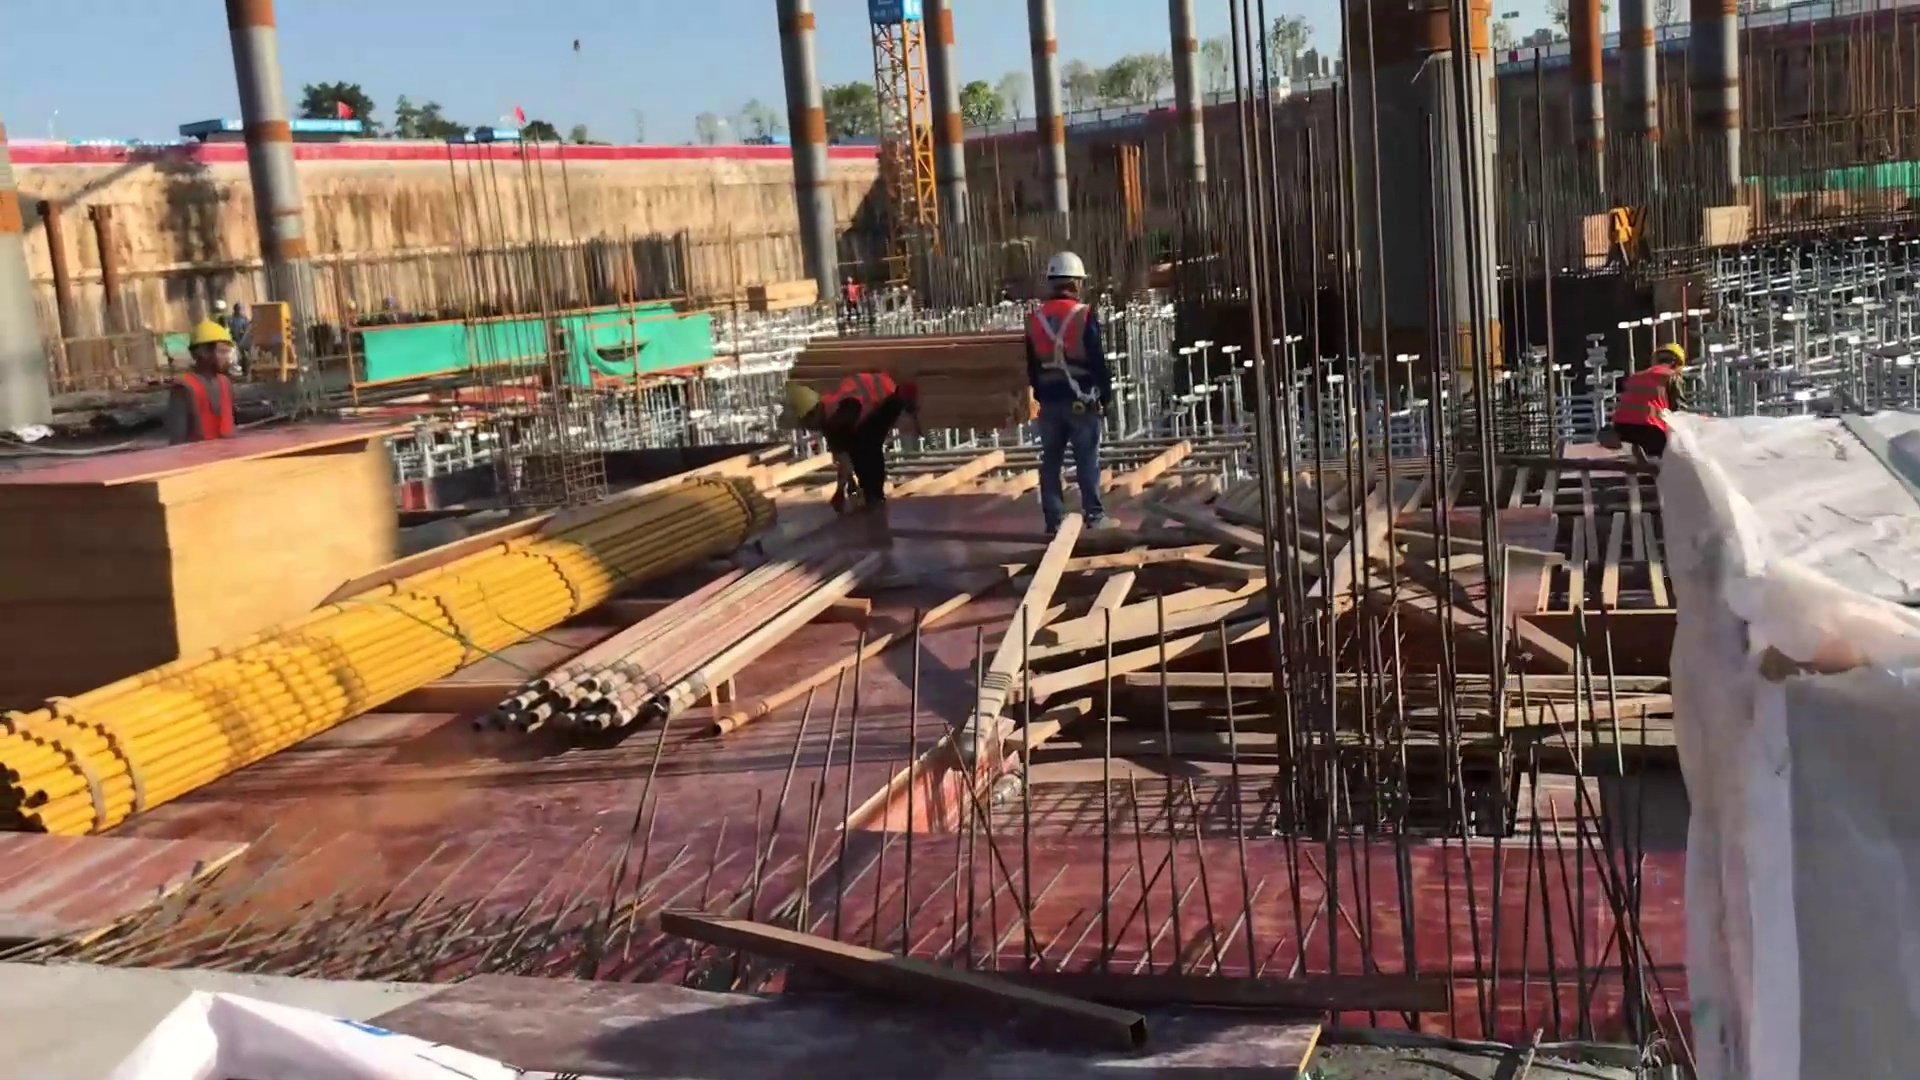helmet: (778, 381, 826, 431), (189, 316, 235, 362), (1043, 247, 1090, 288), (1653, 334, 1689, 369)
person: (1015, 243, 1131, 543), (774, 366, 919, 533), (1606, 331, 1696, 477), (161, 311, 250, 452)
vest: (1021, 293, 1099, 404), (168, 365, 238, 451), (1613, 366, 1674, 433), (824, 370, 906, 420)
